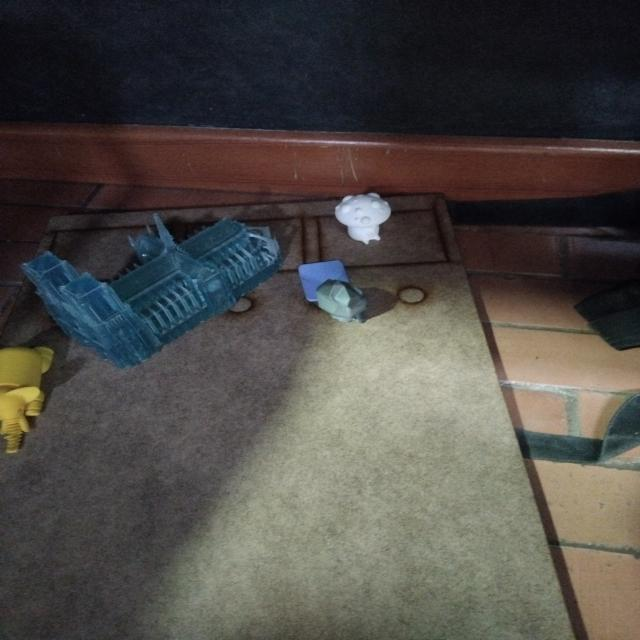Hongo: (326, 184, 396, 248)
